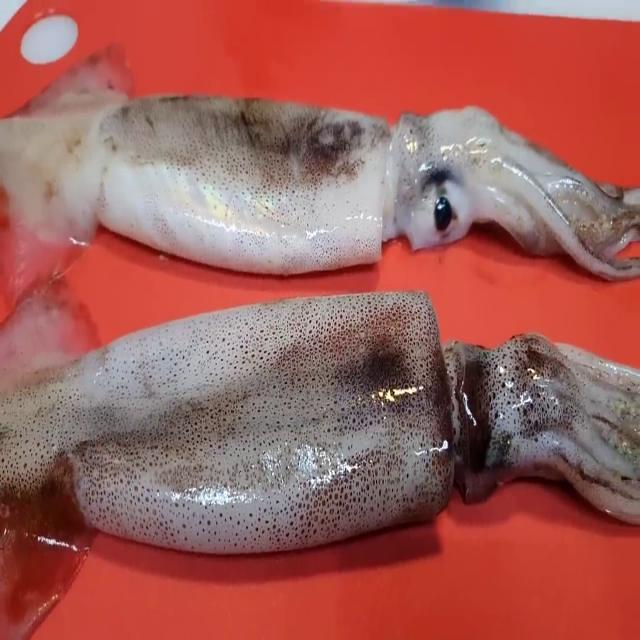SQUID: (0, 298, 640, 584), (0, 35, 640, 302)
